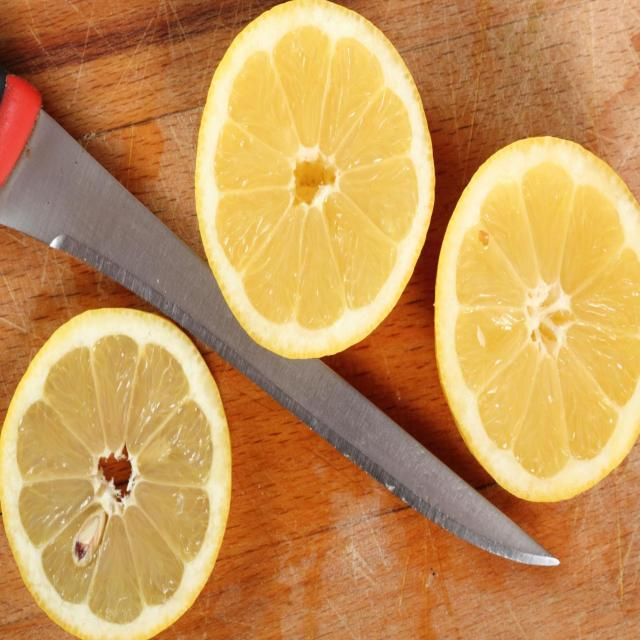lemon: (188, 0, 438, 376), (428, 129, 640, 510)
